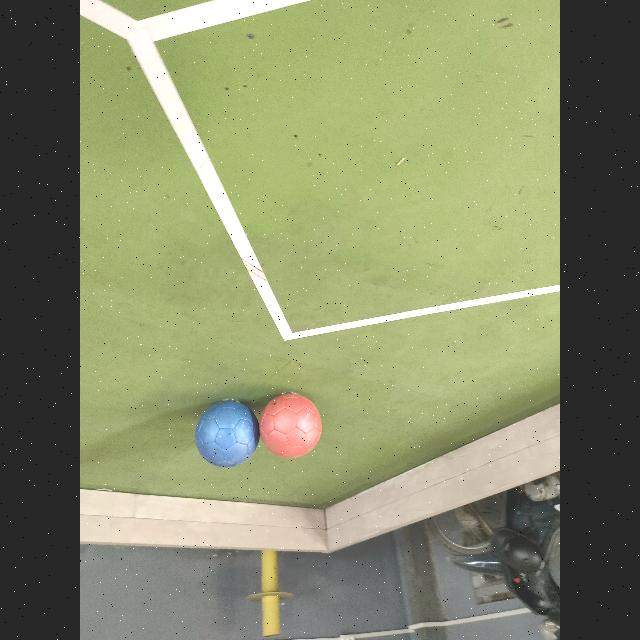B: (195, 399, 259, 467)
R: (259, 393, 322, 458)
